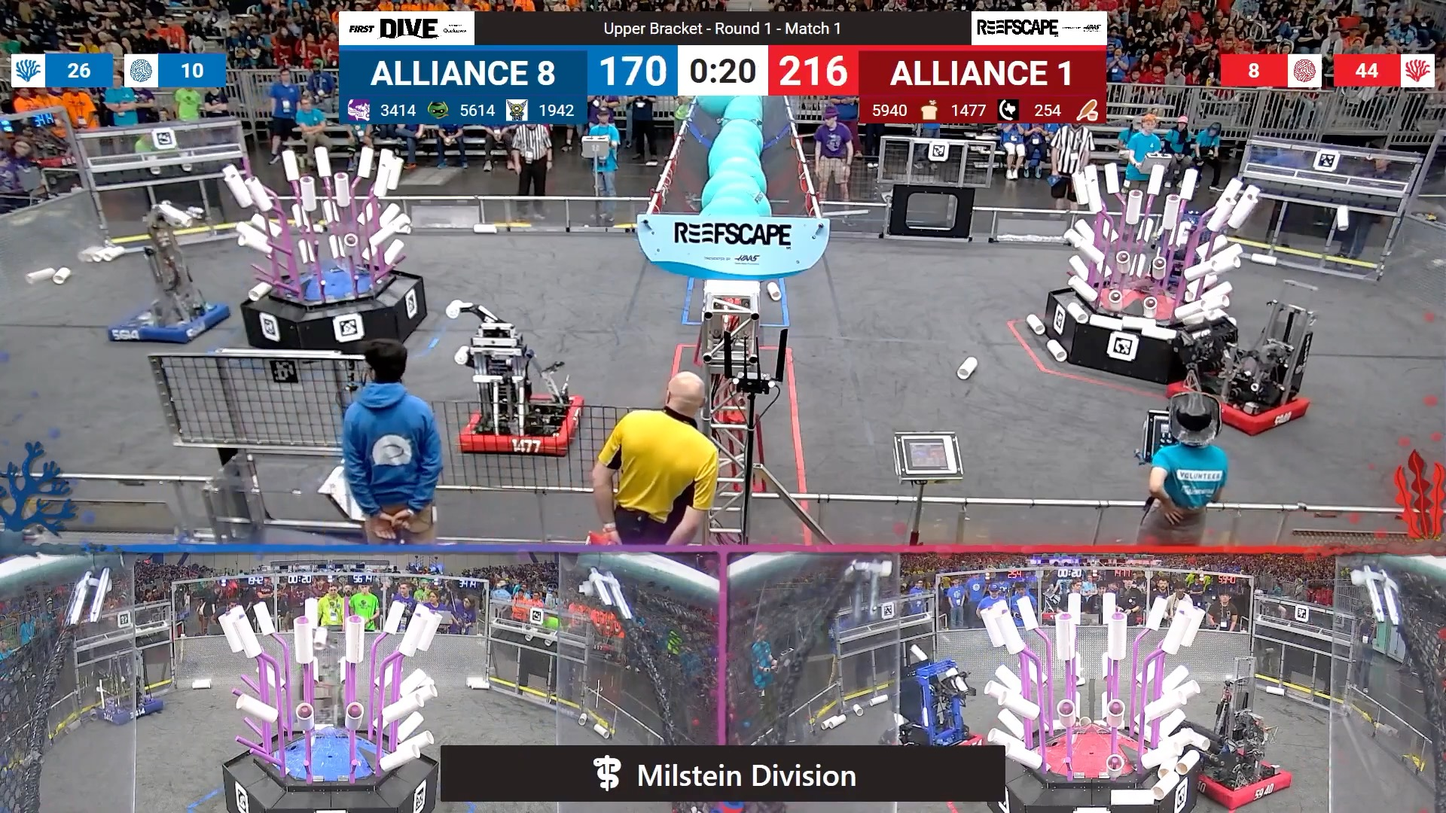bumpers: (1172, 371, 1324, 437), (452, 400, 590, 463), (118, 295, 244, 348), (1180, 755, 1297, 810), (89, 696, 169, 732)
